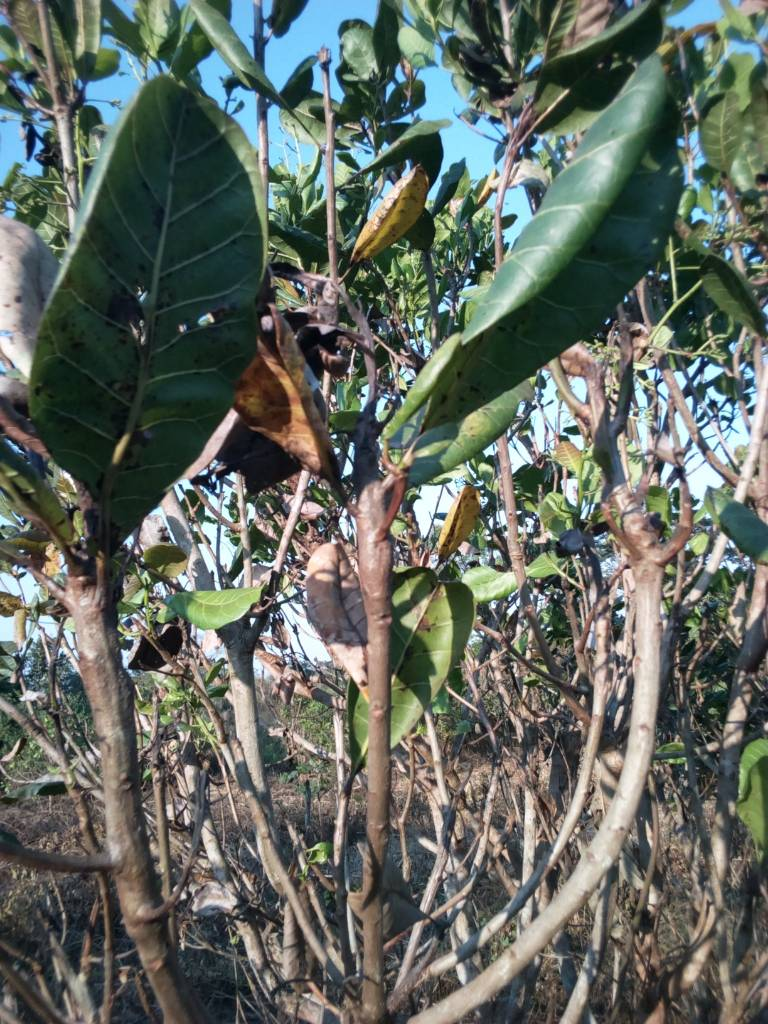Anthracnose: (411, 52, 718, 449), (33, 71, 275, 564), (341, 166, 436, 272)
